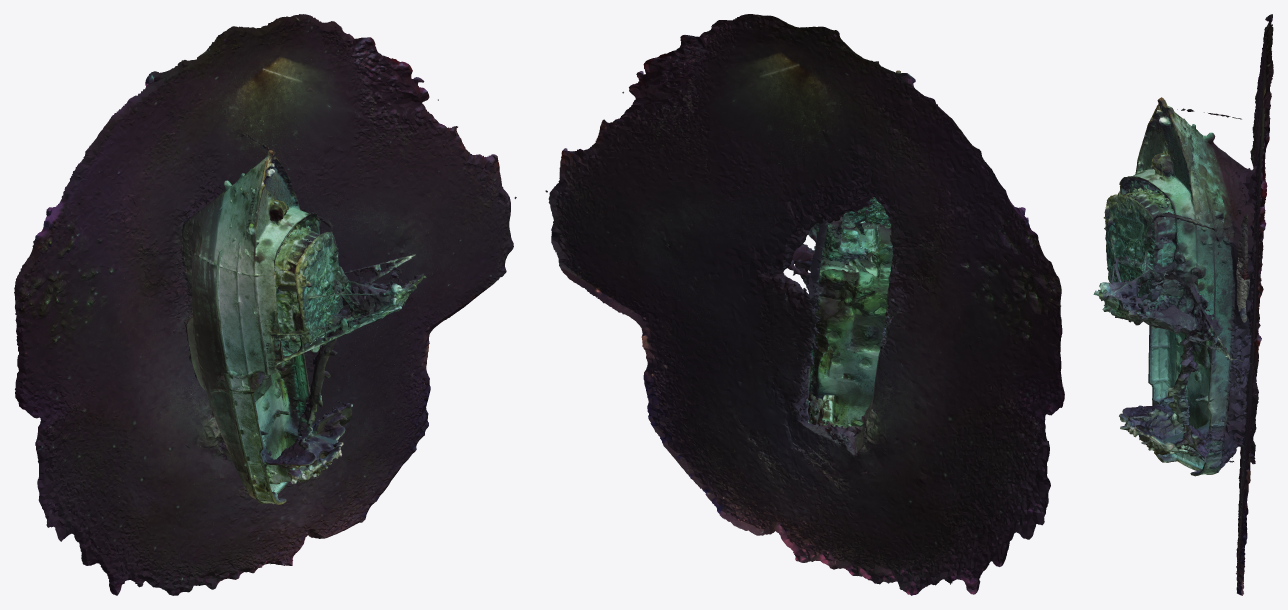
The picture shows the model from 3 angles, left to right: view 1: azimuth 30°, elevation 25°; view 2: azimuth 150°, elevation 25°; view 3: azimuth 270°, elevation 25°; orthographic projection. The views are drawn at different scales.
Visible parts, largest first — view 1: model; view 2: model; view 3: model.
Boxes of the visible parts, box(x1,y1,x2,y2) form: model: box(14, 14, 516, 595); model: box(545, 14, 1064, 595); model: box(1093, 14, 1273, 595).
Bounding box in the file's own units: 25.23 × 26.04 × 7.83.
1 material, 1 textured.
